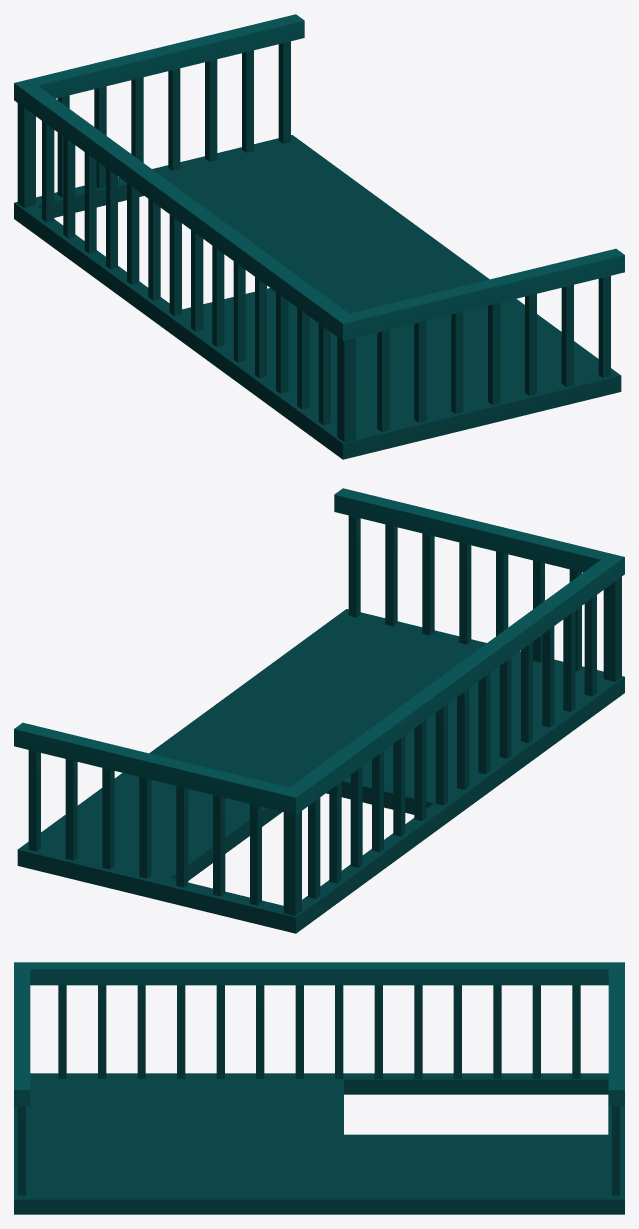
File: FireEscape_C_1.fbx
3 renders of one model, top to bottom at view 1: azimuth 30°, elevation 25°; view 2: azimuth 150°, elevation 25°; view 3: azimuth 270°, elevation 25°, orthographic. The views are drawn at different scales.
Parts seen in each view (by area): view 1: FireEscape_C_1; view 2: FireEscape_C_1; view 3: FireEscape_C_1.
Boxes of the visible parts, x1,y1,x2,y2 form: FireEscape_C_1: [14, 14, 624, 459]; FireEscape_C_1: [14, 488, 624, 933]; FireEscape_C_1: [14, 962, 624, 1214].
Bounding box in the file's own units: 191 × 87.75 × 385.
